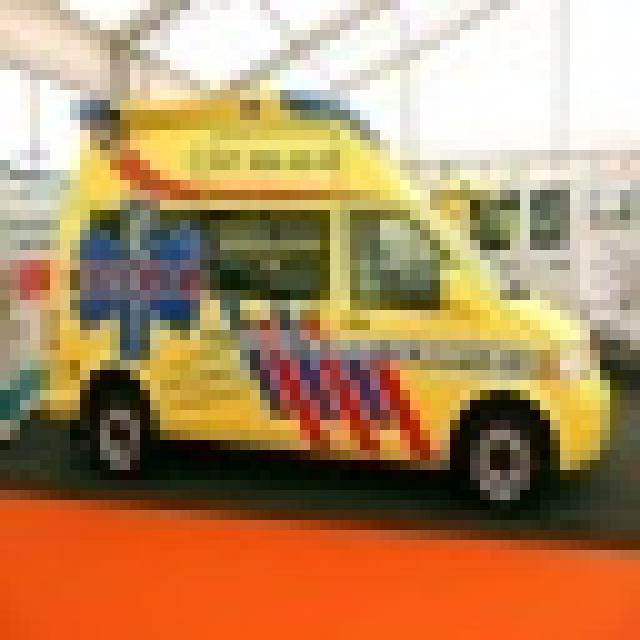Ambulance: (30, 80, 610, 500)
